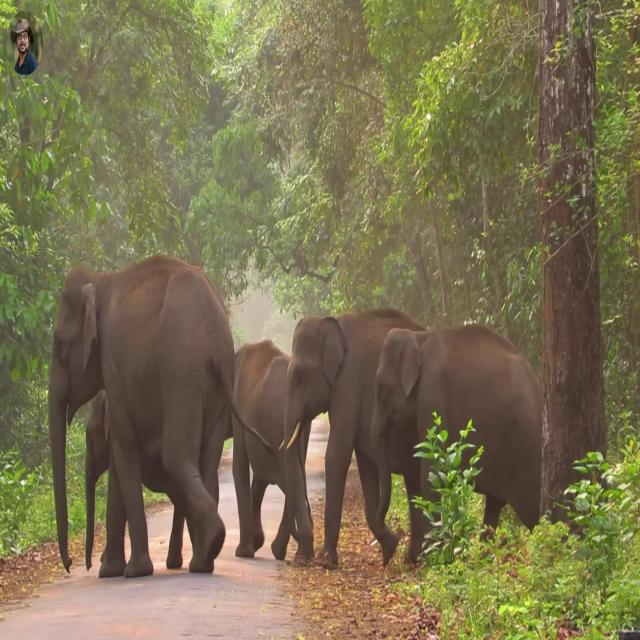Elephant: (48, 253, 272, 577), (370, 322, 542, 566), (276, 306, 427, 569), (230, 338, 315, 560)
person: (10, 17, 42, 75)
